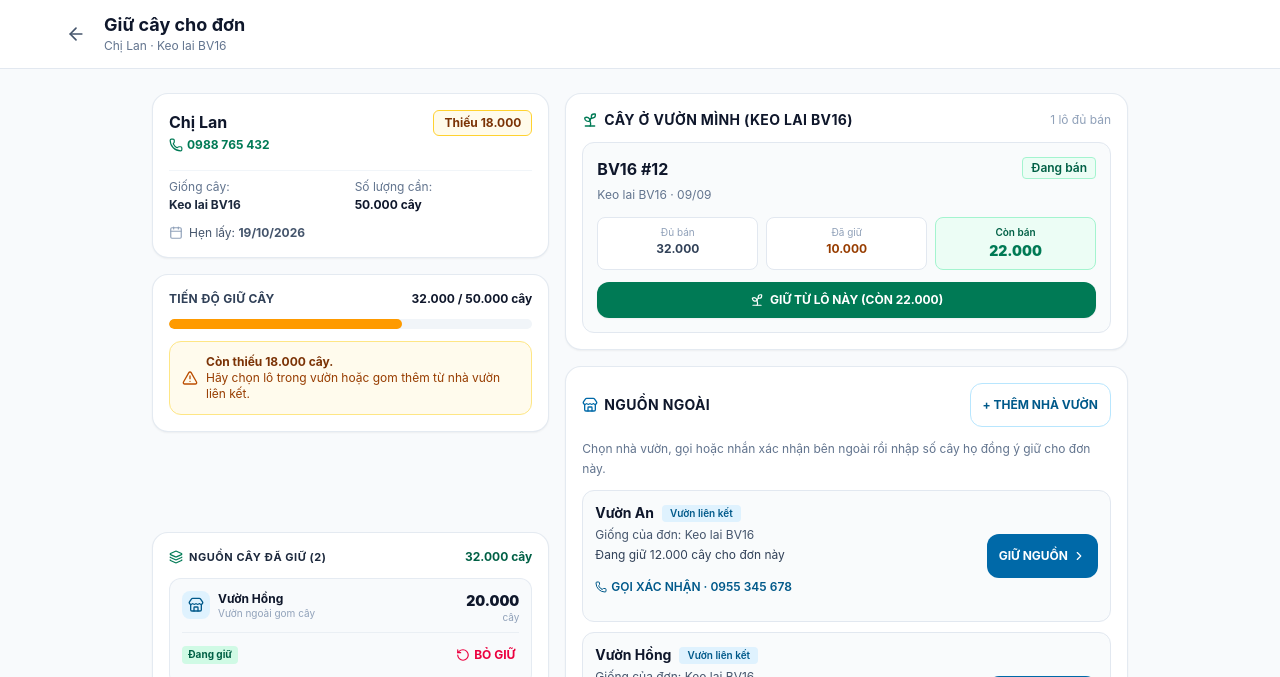
Test case: OrderReserveScreen (Phase P3) › allows reserving from own batch and updates reservation progress
Expected: the text "BV16 #12" is shown, [597,157,668,181]
Find and click "GIỮ TỪ LÔ NÀY"
Click the button "GIỮ TỪ LÔ NÀY (CÒN 22.000)" at (847, 300), box [597,282,1096,318]
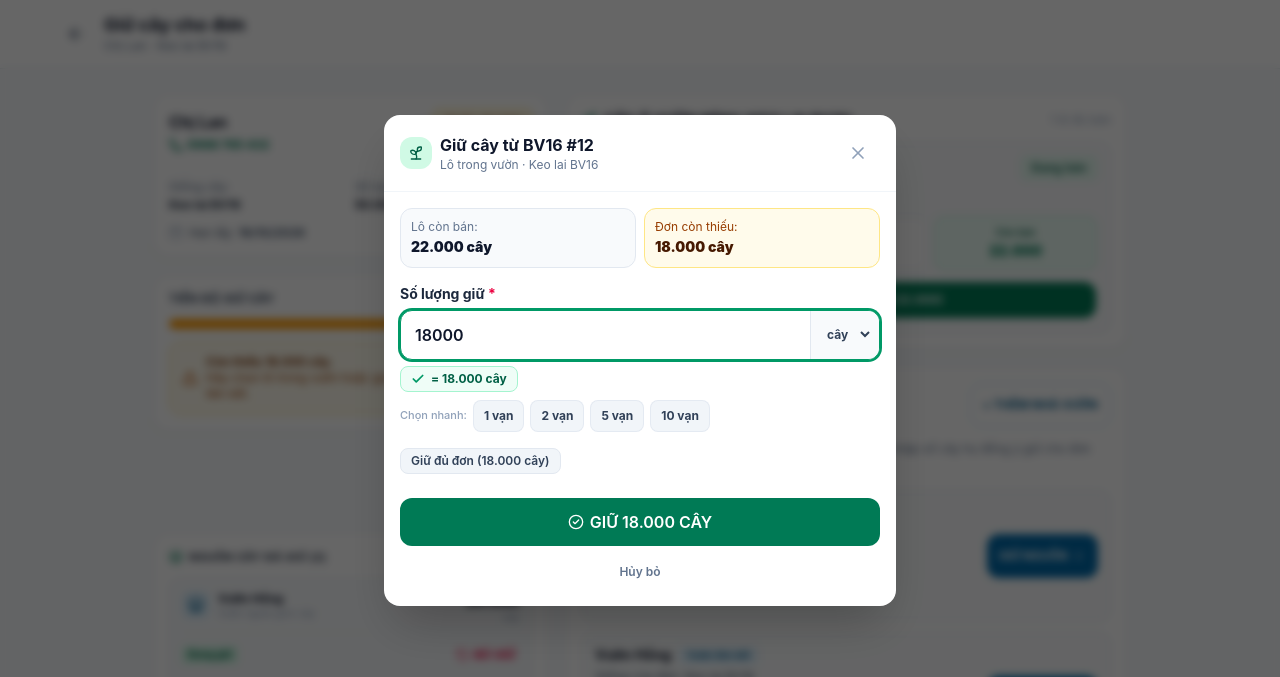
Now the heading "Giữ cây từ BV16 #12" is shown, box [440,132,598,156]
Now the text "= 18.000 cây" is shown, box [431,370,507,386]
Click submit button
Click the button "GIỮ 18.000 CÂY" at (640, 522), box [400,498,880,546]
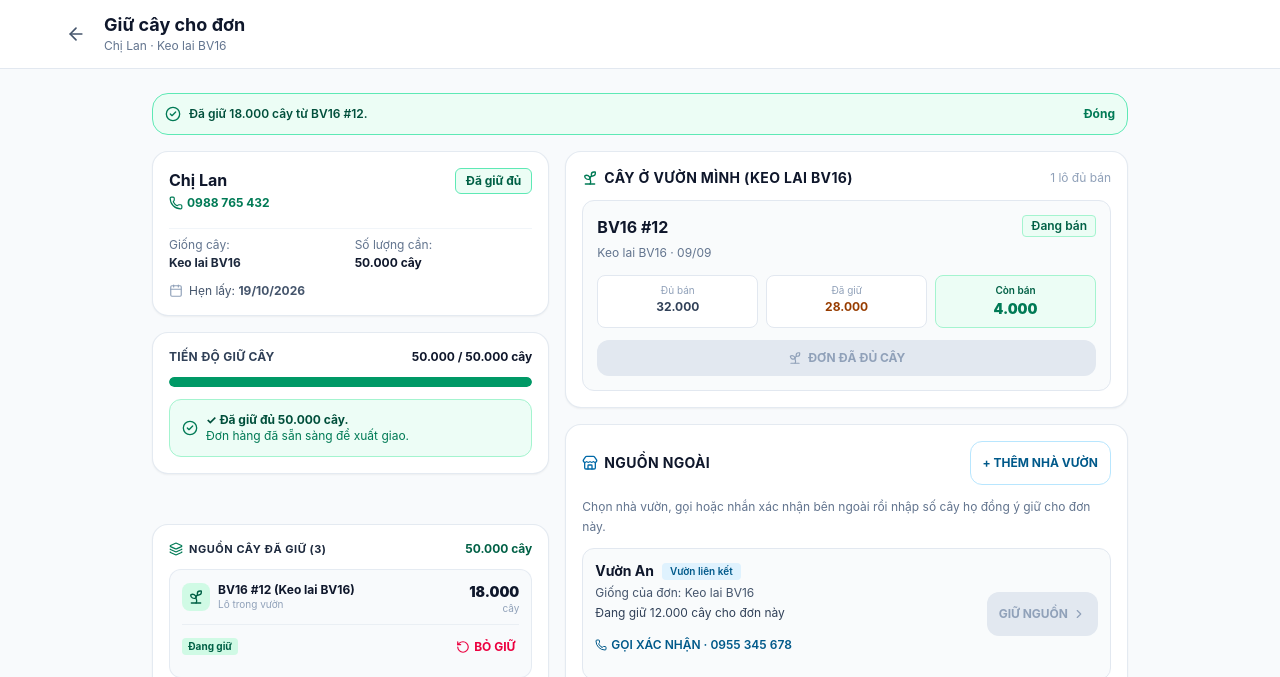
Now the text "Đã giữ đủ" is shown, box [455,168,532,194]
Now the text "✓ Đã giữ đủ 50.000 cây." is shown, box [206,412,348,427]
